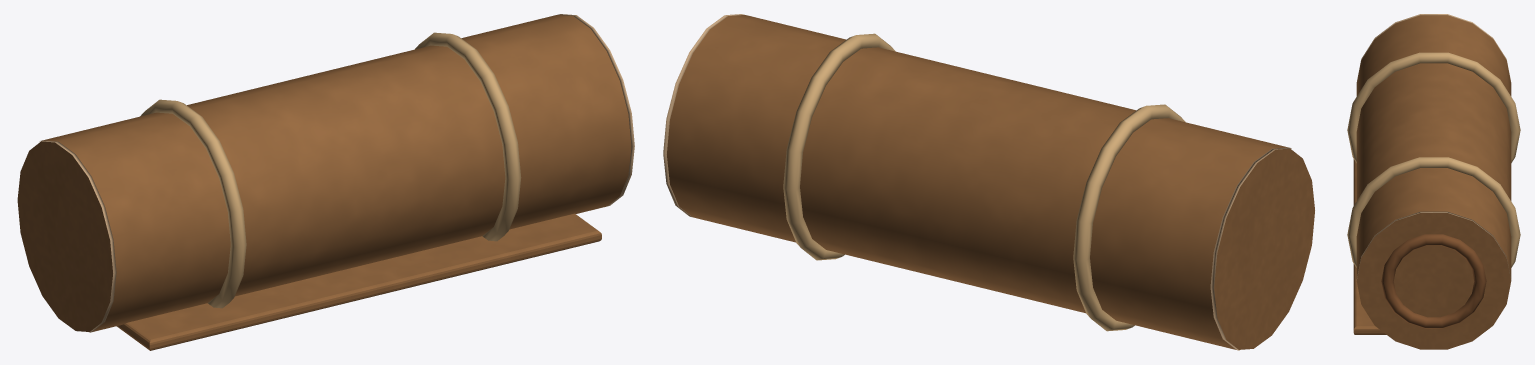
File: leather.glb
The picture shows the model from 3 angles, left to right: view 1: azimuth 30°, elevation 25°; view 2: azimuth 150°, elevation 25°; view 3: azimuth 270°, elevation 25°; orthographic projection. The views are drawn at different scales.
Visible parts, largest first — view 1: leather; view 2: leather; view 3: leather.
Part boxes in pixels (x1,y1,x2,y2): leather: (17,14,634,350); leather: (663,14,1314,350); leather: (1347,14,1520,349).
Size of the model in its own units: 0.3065 by 0.1103 by 0.112.
4 materials, 2 textured.
